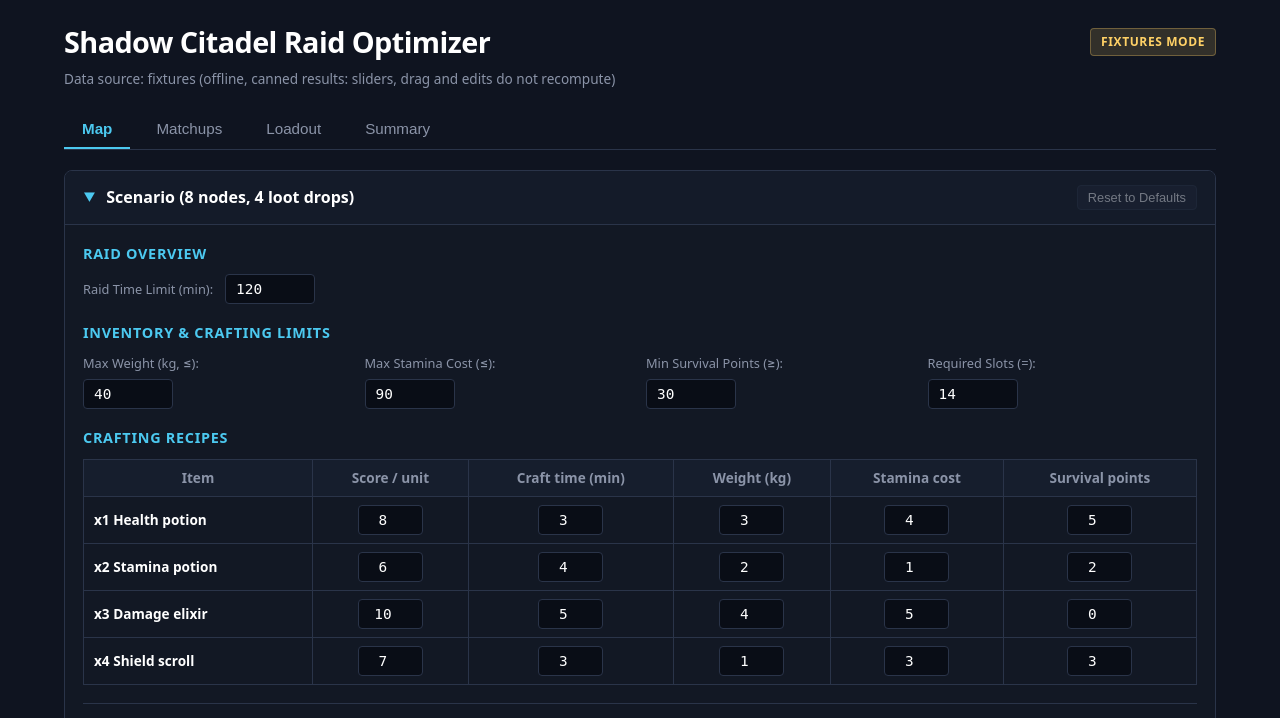
Scenario: switching tabs shows that tab's fixture result
Click the tab "Matchups". click: x=189, y=129
box: [138,110,240,149]
(page scrolled)
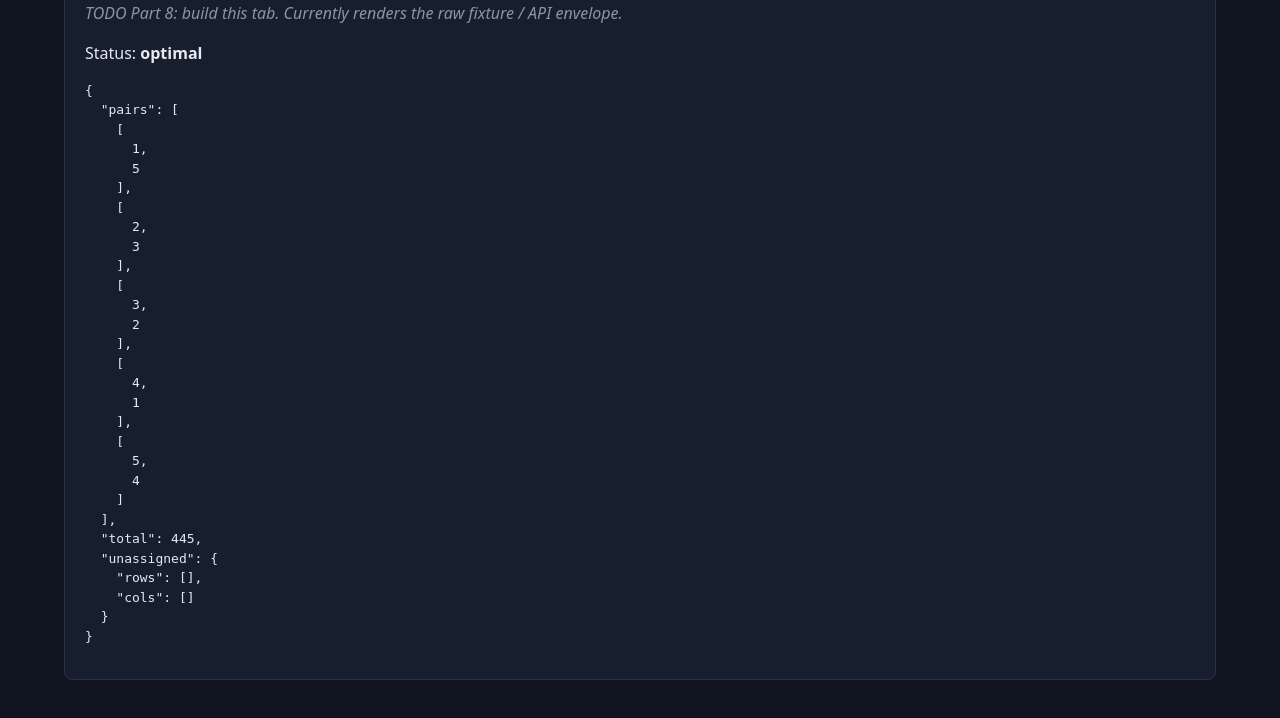
Now the text "\"total\": 445" is shown, box [85,83,218,644]
